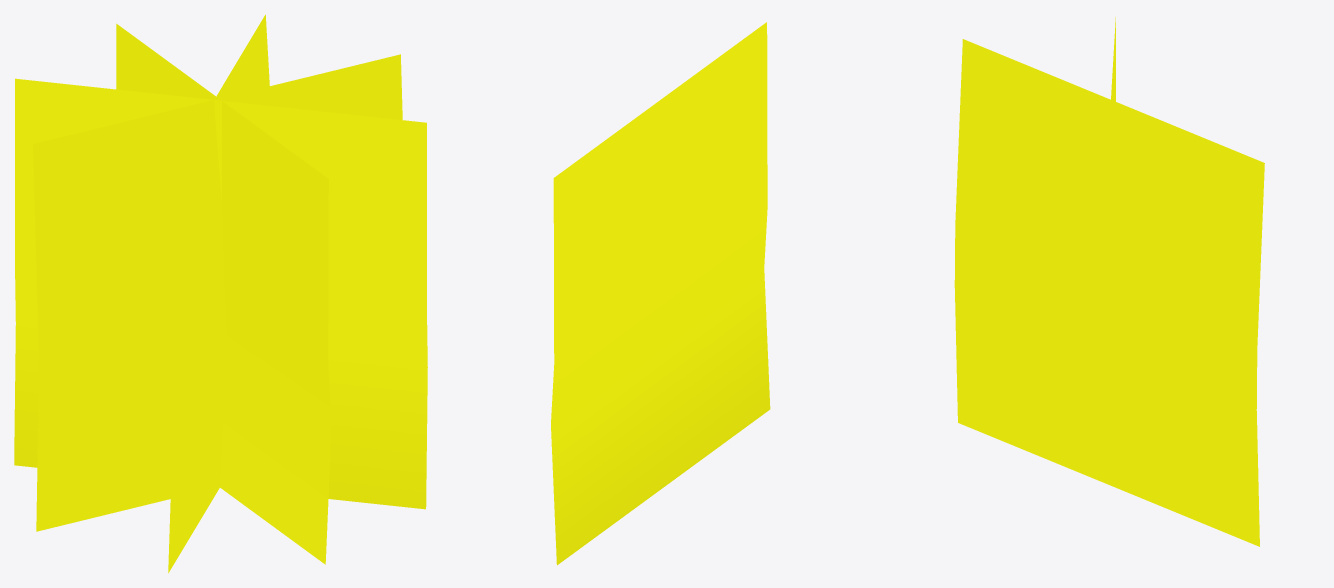
Rendered from Foliage_Trees_Tree_3_Oak_OakTree2_Low.glb.
3 renders of one model, left to right at view 1: azimuth 30°, elevation 25°; view 2: azimuth 150°, elevation 25°; view 3: azimuth 270°, elevation 25°, orthographic.
Visible parts, largest first — view 1: Tree3Low; view 2: Tree3Low; view 3: Tree3Low.
Boxes of the visible parts, x1=… form: Tree3Low: x1=14, y1=14, x2=427, y2=573; Tree3Low: x1=551, y1=22, x2=770, y2=565; Tree3Low: x1=954, y1=17, x2=1264, y2=546.
Bounding box in the file's own units: 4.98 × 4.98 × 4.98.
1 material, 1 textured.
